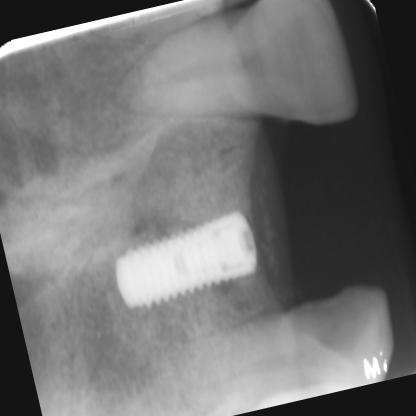ITI: (102, 203, 267, 319)
